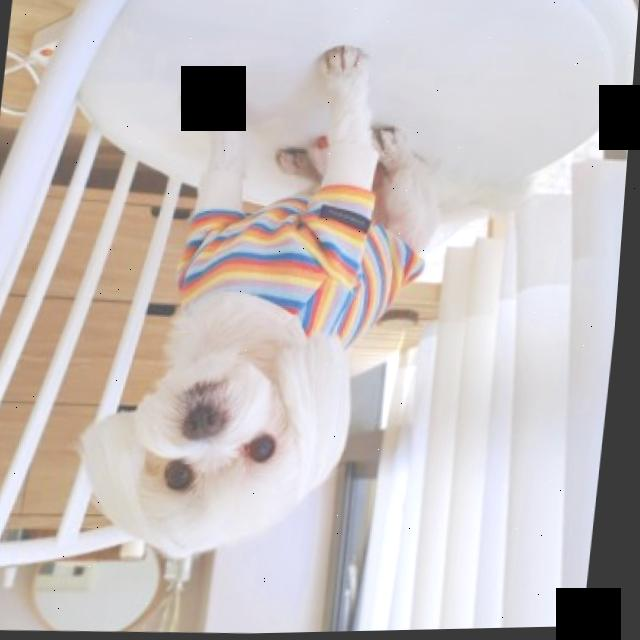cloth: (182, 186, 426, 347)
